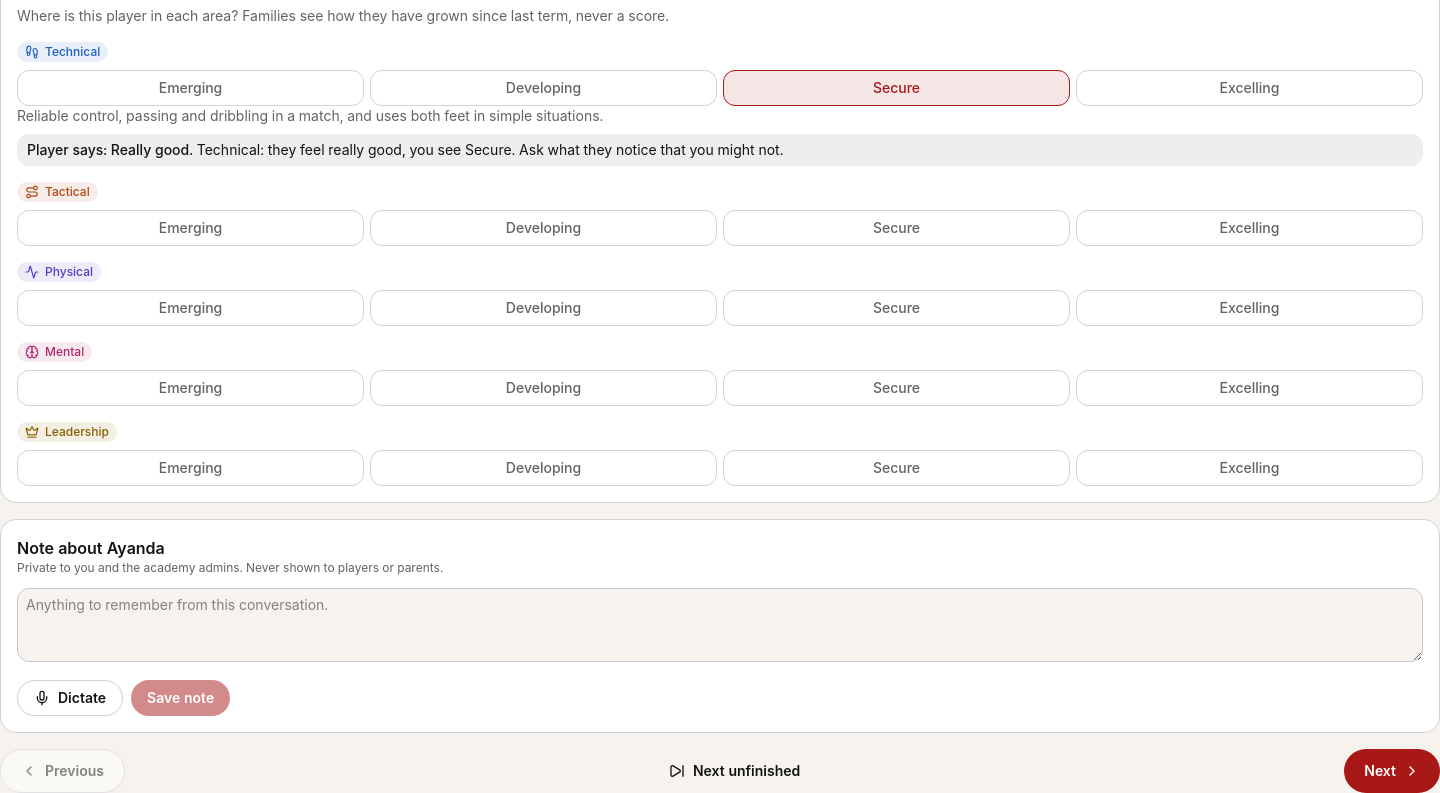
Test case: SquadReview › jumps to the next unfinished child
(page scrolled)
Step 1. Click the button "Next unfinished" → (735, 771), box [649, 749, 820, 792]
(page scrolled)
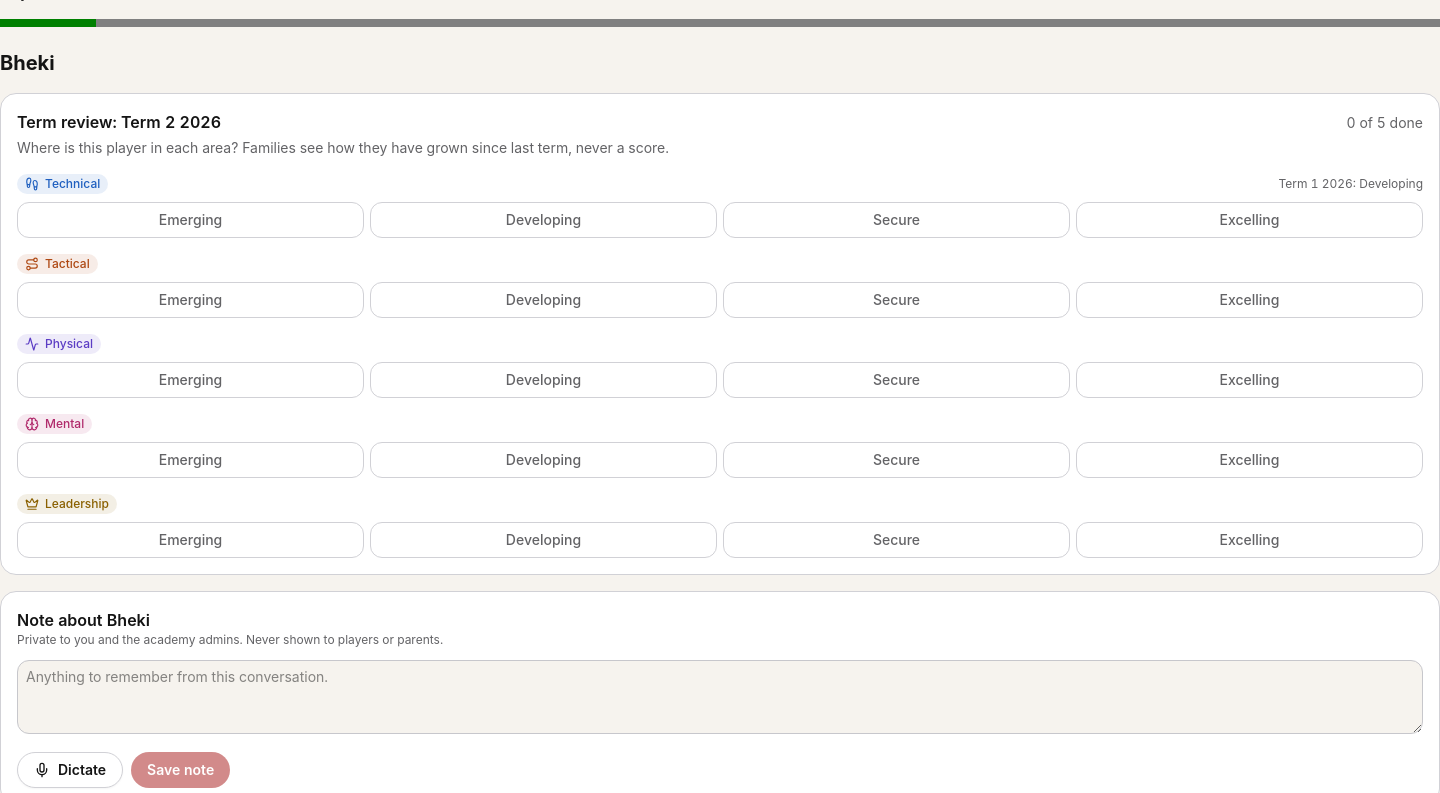
Expected: the heading "Bheki" is shown, [0, 51, 55, 75]
